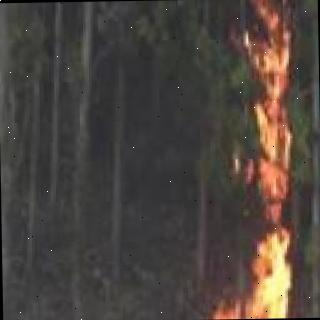fire: (165, 14, 318, 320)
